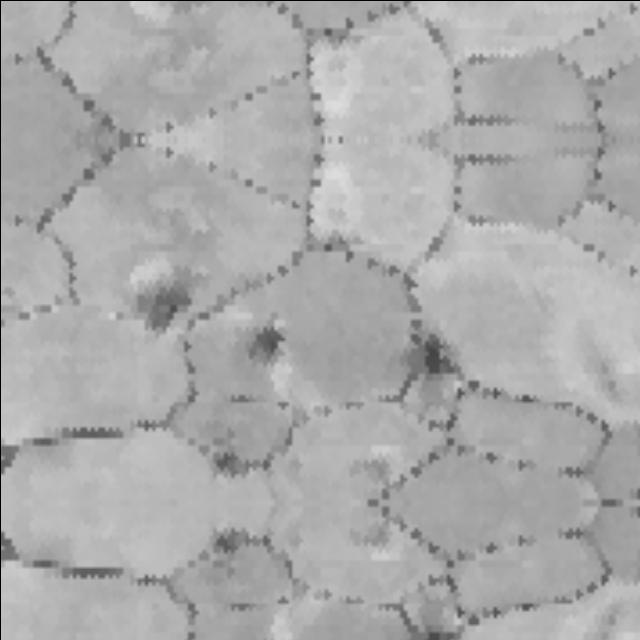good_void: (125, 280, 192, 337), (412, 330, 459, 383), (201, 525, 273, 557), (201, 446, 273, 477), (242, 321, 280, 366), (412, 619, 459, 640)
